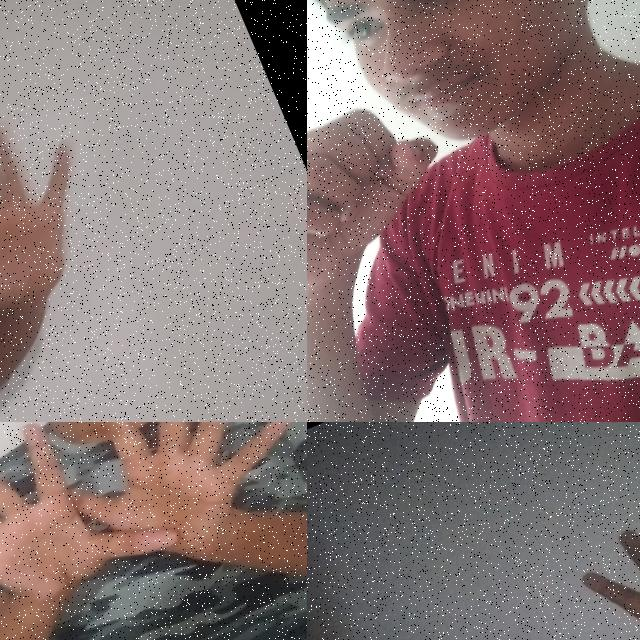Fist Mouth: (307, 0, 640, 326)
Moutza: (12, 422, 307, 590), (0, 422, 199, 640), (0, 81, 135, 382), (545, 494, 640, 640)
